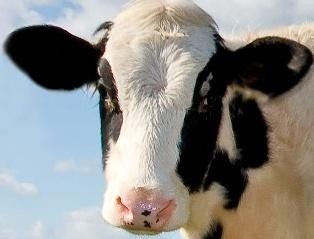muzzles: (98, 184, 192, 236)
